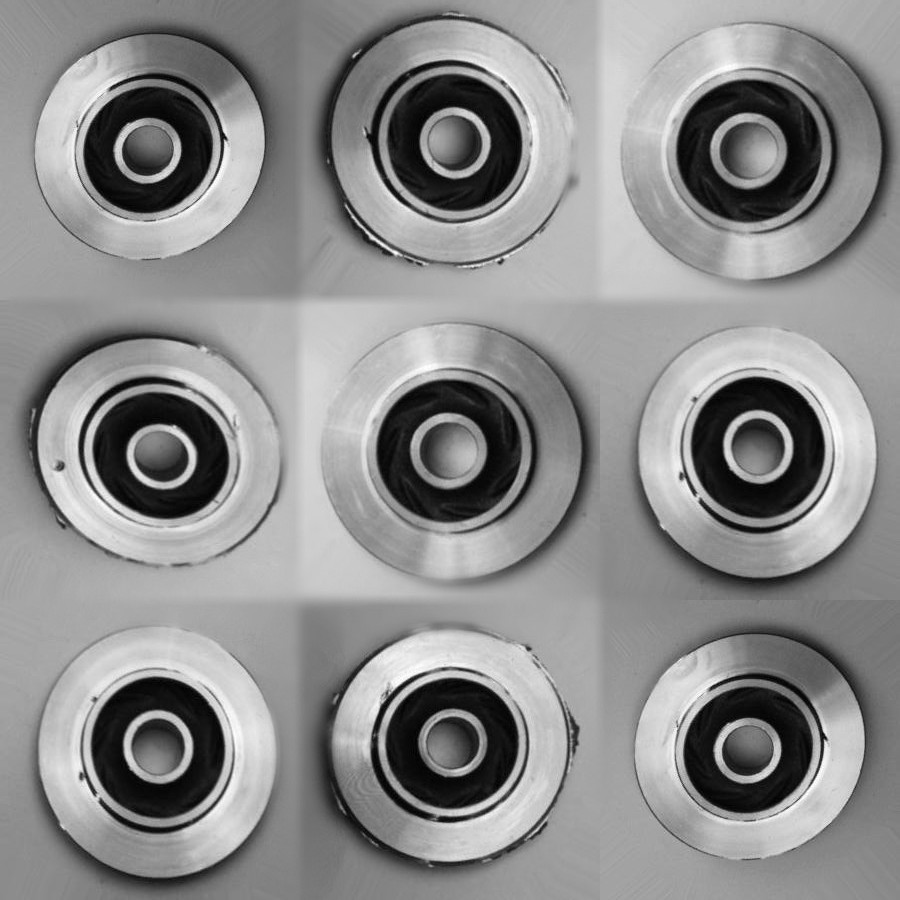pump_impeller: (318, 319, 588, 585), (620, 19, 888, 284), (316, 619, 578, 874), (322, 12, 577, 271), (30, 622, 281, 882), (634, 320, 878, 582), (25, 330, 286, 569), (630, 627, 869, 863), (31, 27, 267, 260)
